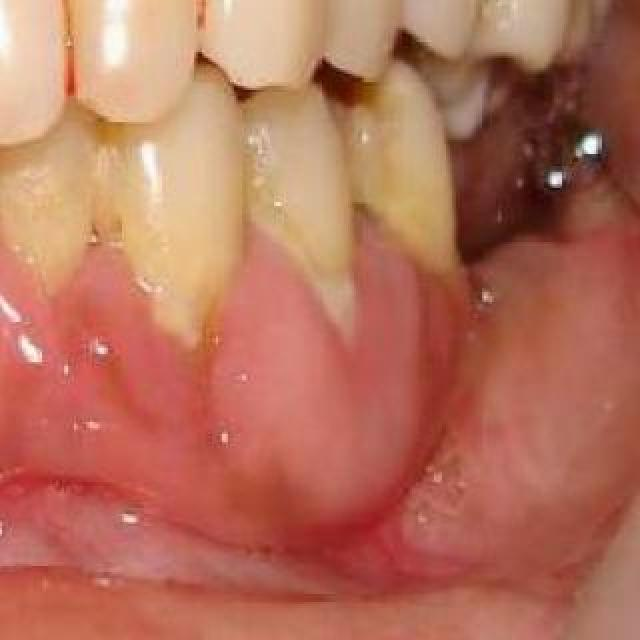calculus: (81, 124, 259, 392), (228, 123, 382, 369), (337, 103, 471, 289), (176, 0, 332, 36), (478, 0, 594, 28)
missing: (457, 87, 587, 255)
